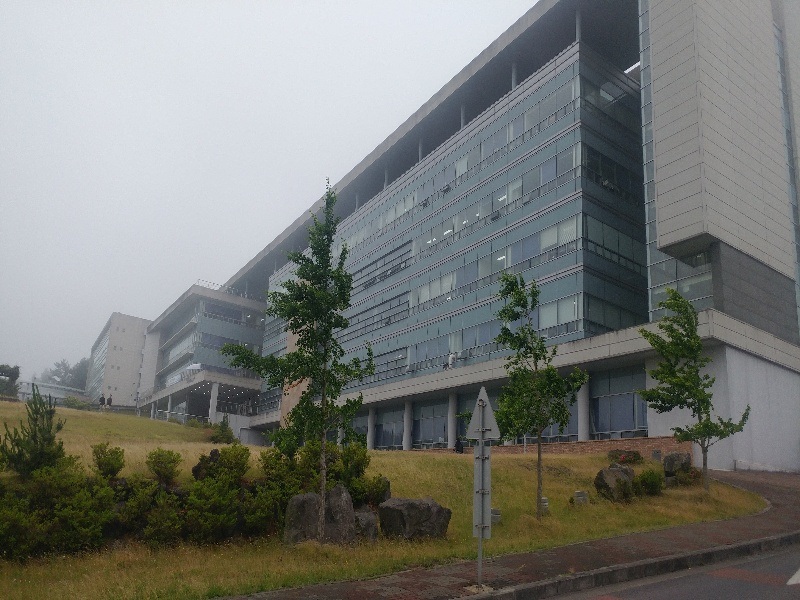College of Marine Science: (17, 316, 139, 392), (89, 317, 146, 396)
Engineering College Building 4: (141, 100, 796, 440)
